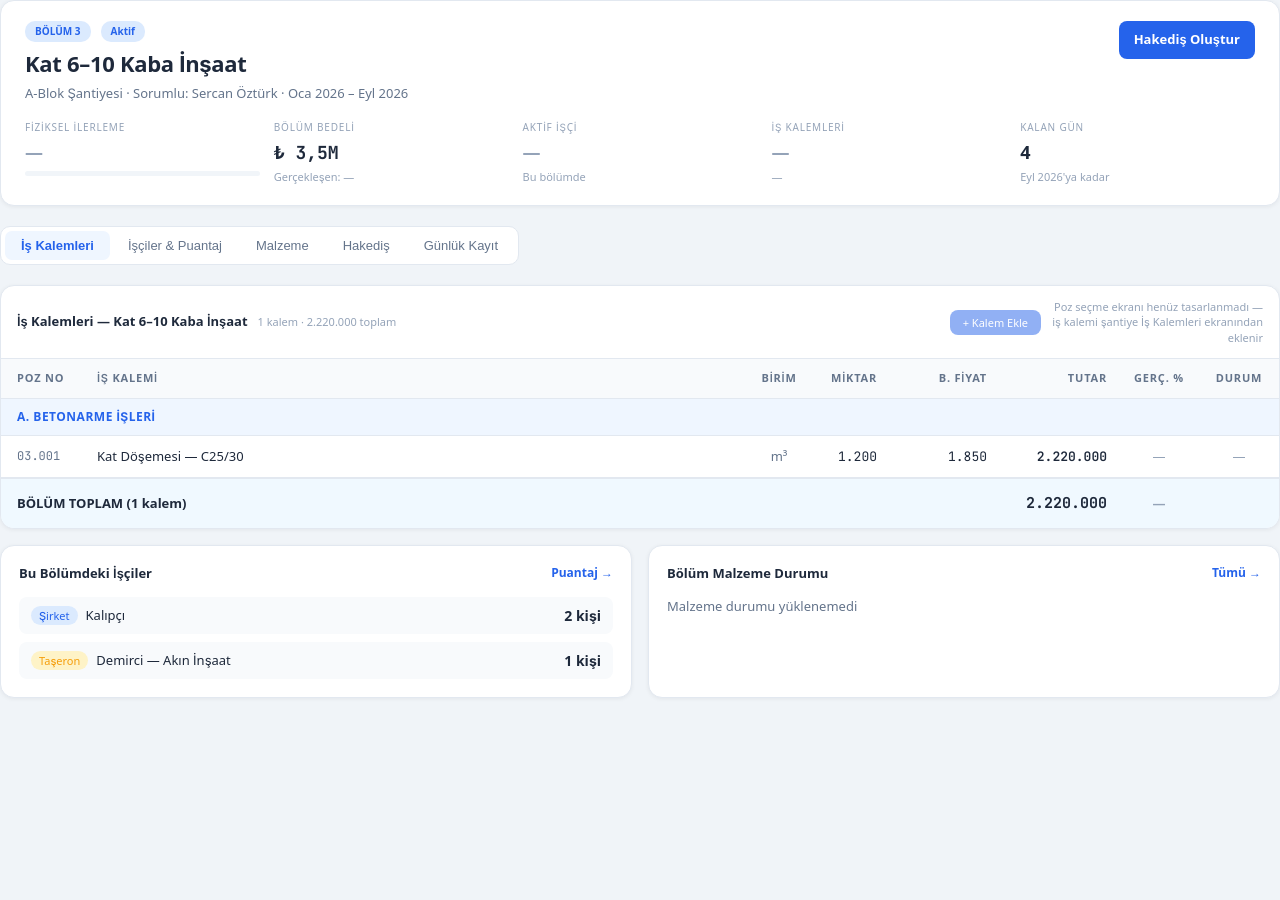
it: SectionDetailView — sekmeler (D99-105, hepsi BÖLÜM BAĞI bekleyen içerik) › sekme degistirince Malzeme paneli basilir - YER TUTUCU DEGIL
The width and height of the screenshot is (1280, 900).
Click the tab "Malzeme" at (282, 246), box [240, 231, 325, 260]
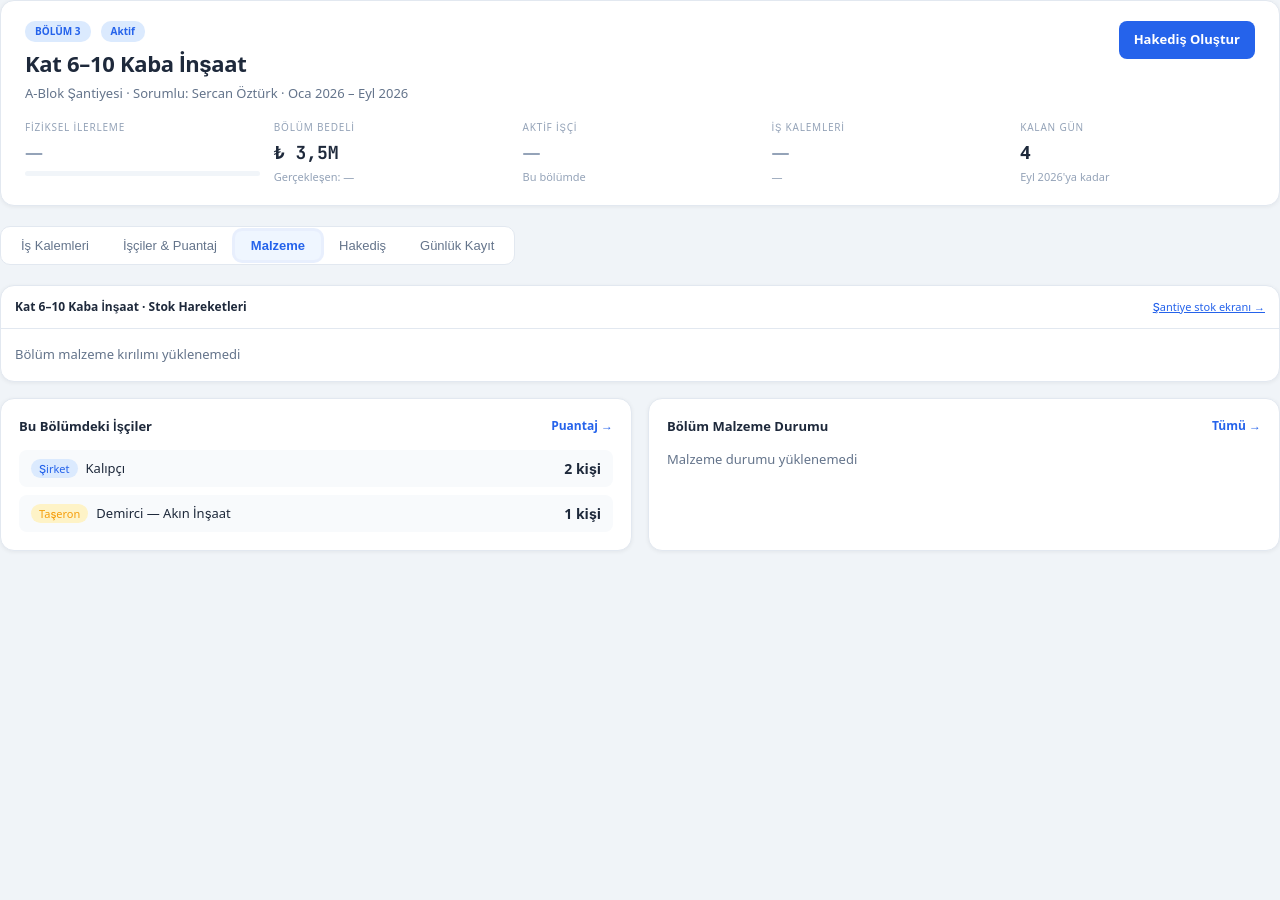
Result: the element with test id "section-stock" is shown at [1, 286, 1279, 380]
